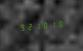eight: (42, 19, 49, 30), (58, 18, 65, 28)
nine: (17, 22, 24, 32)
one: (34, 20, 41, 31), (50, 19, 57, 29)
two: (25, 21, 32, 31)
